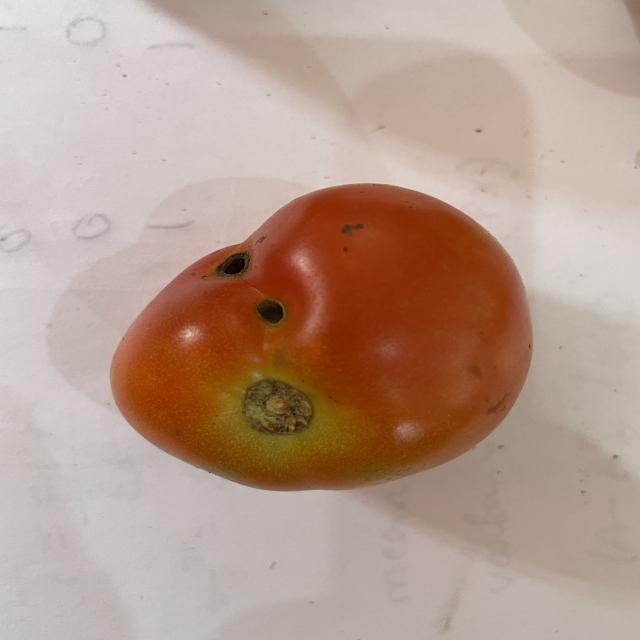fruitworm_bore: (208, 243, 290, 332)
